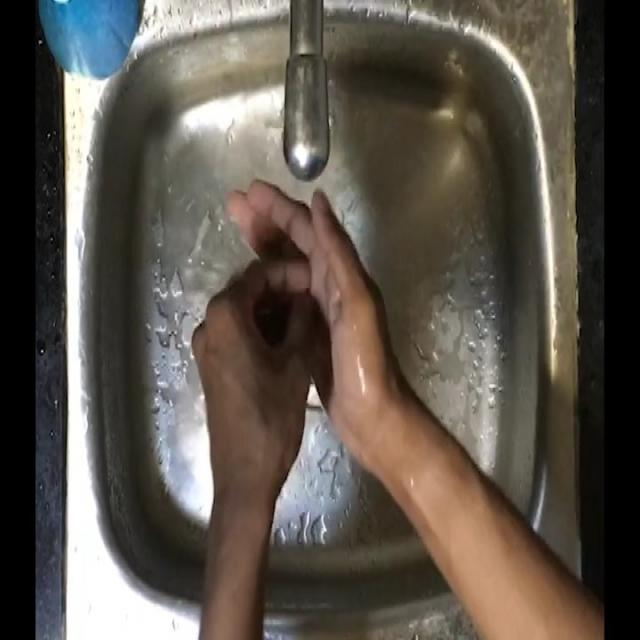step_6: (184, 175, 392, 456)
